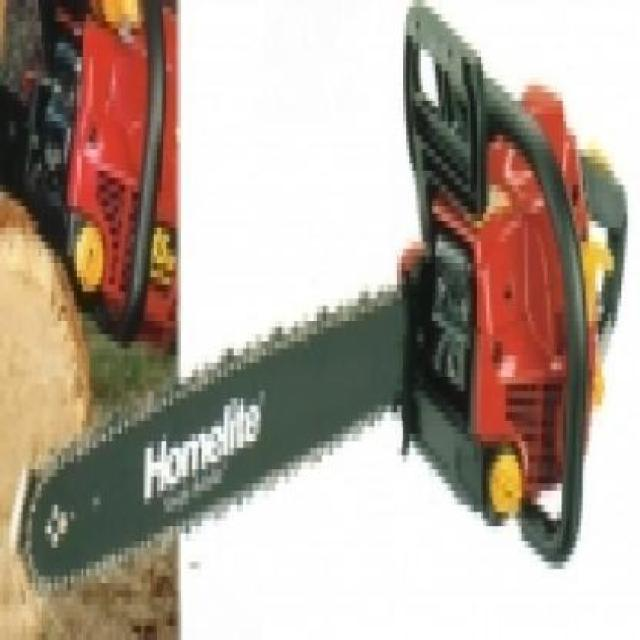Chainsaw: (12, 0, 627, 595)
